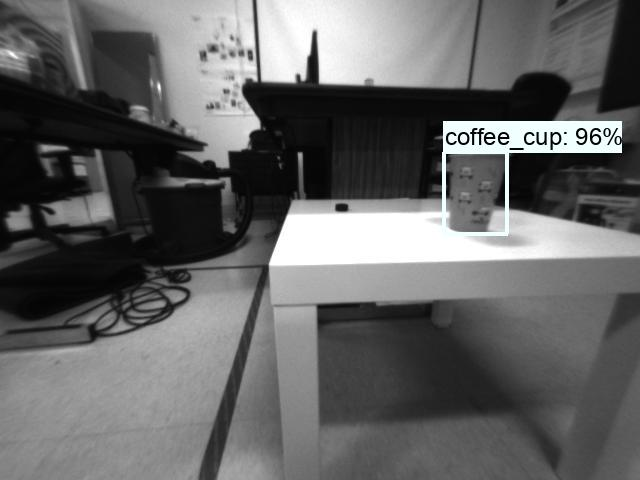coffee_cup: (444, 151, 510, 233)
